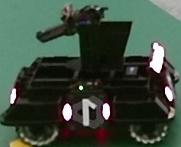armor_1: (63, 103, 110, 121)
light: (151, 43, 165, 73)
